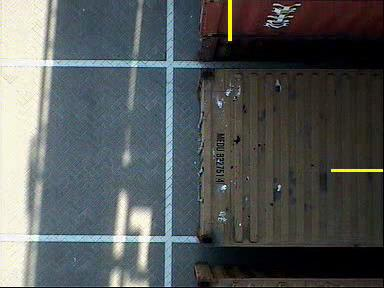groundmarker_2: (86, 229, 162, 288), (91, 101, 166, 159)
